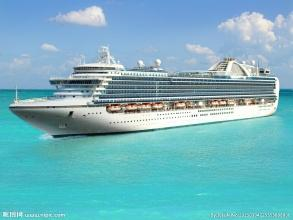youlun: (5, 42, 282, 141)
